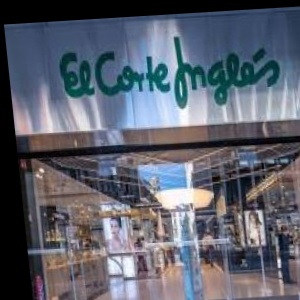corte_ingles: (255, 15, 300, 37)
